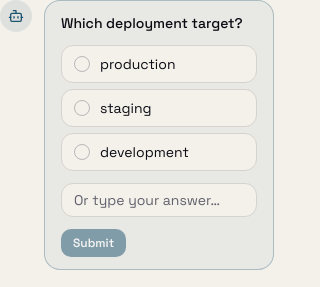
Test: UserInputPrompt › enables submit after selecting a choice
The width and height of the screenshot is (320, 287).
Click the radio button "staging". click: (159, 108)
box: [61,89,257,127]
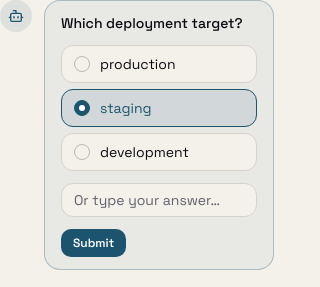
Check: the button "Submit" is enabled, box [61,229,126,257]
